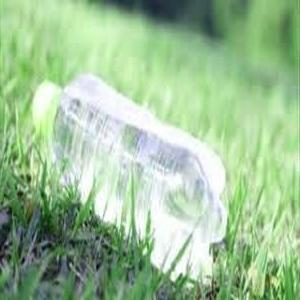Plastic: (31, 71, 227, 290)
